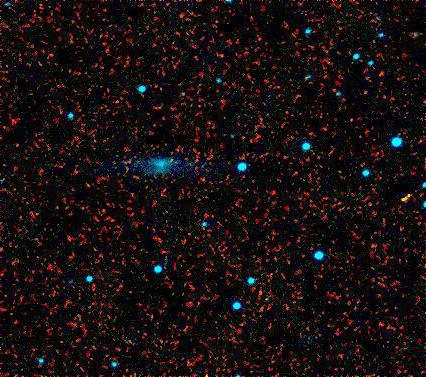star: (391, 182, 421, 212)
